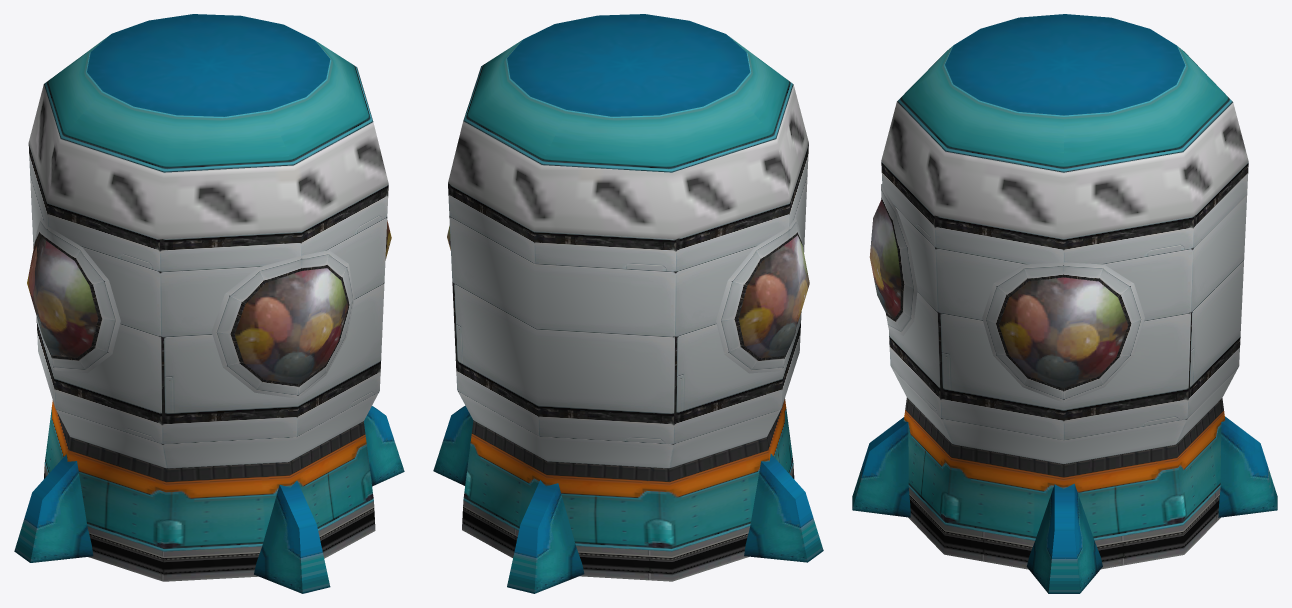
File: stg200_obj_tank.obj
The picture shows the model from 3 angles, left to right: view 1: azimuth 30°, elevation 25°; view 2: azimuth 150°, elevation 25°; view 3: azimuth 270°, elevation 25°; orthographic projection.
Parts seen in each view (by area): view 1: polygon1, polygon0, polygon3, polygon4, polygon2; view 2: polygon1, polygon0, polygon3, polygon2, polygon4; view 3: polygon1, polygon0, polygon3, polygon4, polygon2.
Part boxes in pixels (x1=…): polygon1: x1=14, y1=14, x2=404, y2=593; polygon0: x1=28, y1=143, x2=388, y2=468; polygon3: x1=28, y1=84, x2=388, y2=239; polygon4: x1=27, y1=220, x2=391, y2=384; polygon2: x1=44, y1=464, x2=375, y2=581; polygon1: x1=433, y1=14, x2=823, y2=593; polygon0: x1=448, y1=143, x2=808, y2=468; polygon3: x1=448, y1=85, x2=808, y2=239; polygon2: x1=462, y1=464, x2=794, y2=581; polygon4: x1=447, y1=226, x2=809, y2=357; polygon1: x1=852, y1=14, x2=1277, y2=593; polygon0: x1=881, y1=161, x2=1248, y2=463; polygon3: x1=881, y1=102, x2=1248, y2=238; polygon4: x1=869, y1=200, x2=1128, y2=388; polygon2: x1=908, y1=488, x2=1220, y2=569.
Bounding box in the file's own units: 15.54 × 17.7 × 15.54.
Materials: 5 (5 with a texture image).
